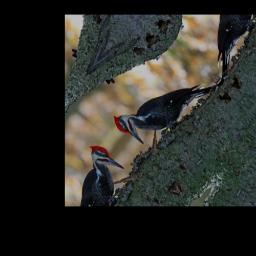Woodpecker: (108, 44, 221, 163)
